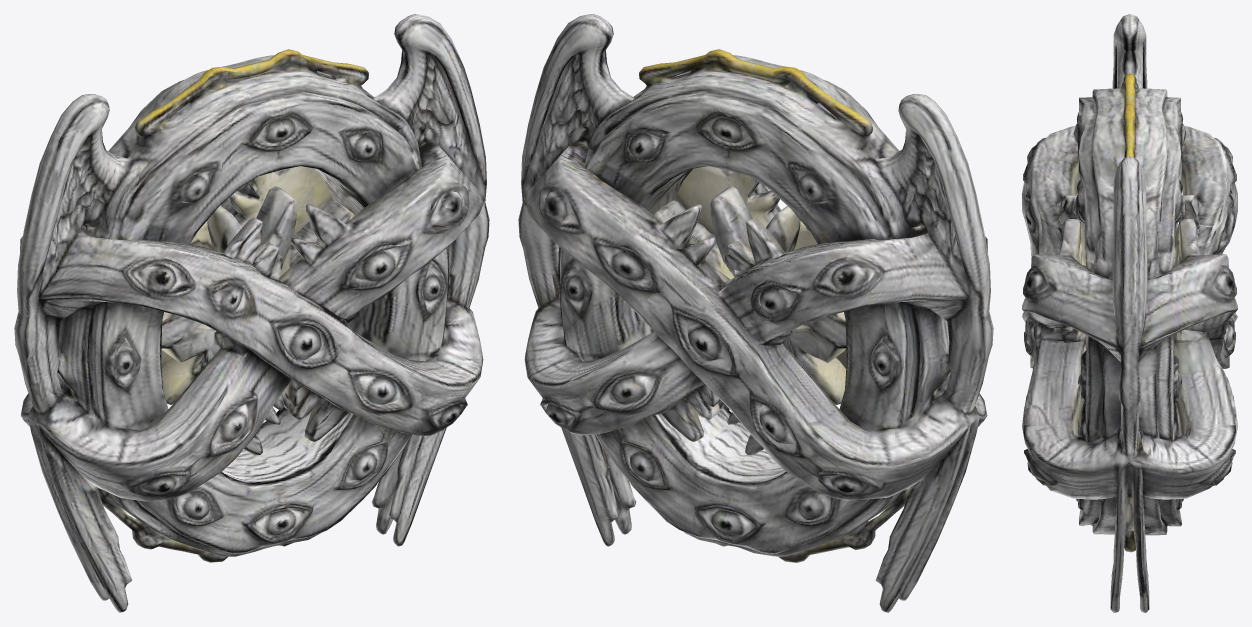
The model's file is Clergy_Ophanim.glb.
3 views of the same model, side by side, from view 1: azimuth 30°, elevation 25°; view 2: azimuth 150°, elevation 25°; view 3: azimuth 270°, elevation 25° (orthographic). The views are drawn at different scales.
Bounding box in the file's own units: 1.8 × 1.91 × 0.8023.
1 material, 1 textured.
